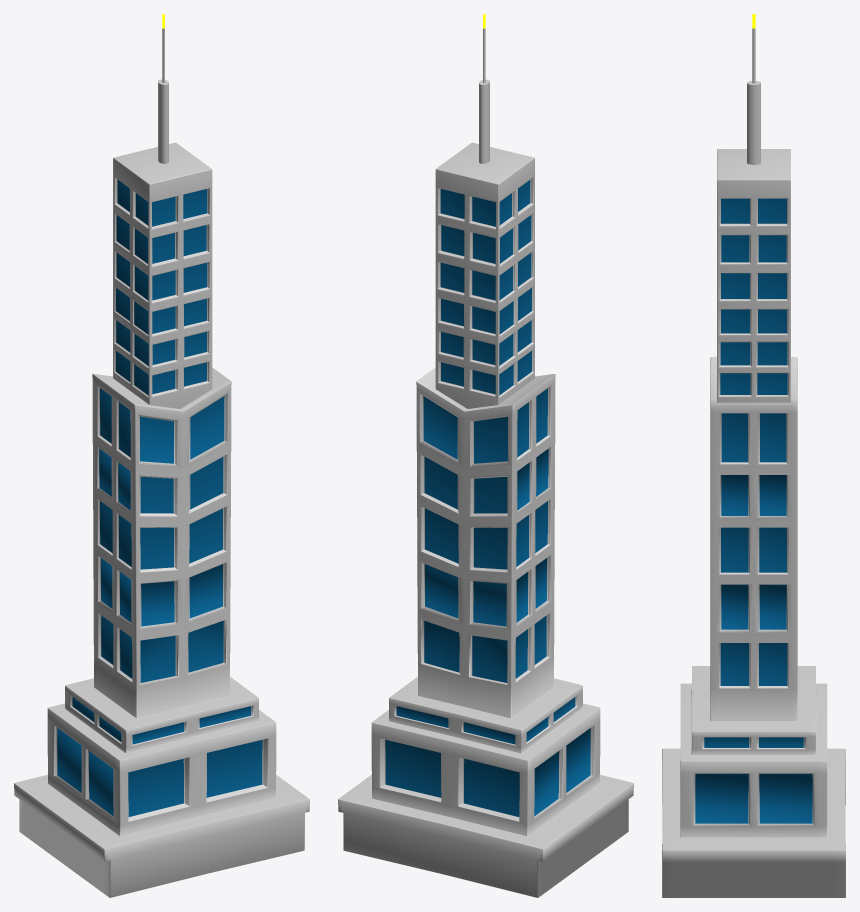
The model's file is Skyscraper1.fbx.
The picture shows the model from 3 angles, left to right: view 1: azimuth 30°, elevation 25°; view 2: azimuth 150°, elevation 25°; view 3: azimuth 270°, elevation 25°; orthographic projection.
Parts seen in each view (by area): view 1: Cube.001; view 2: Cube.001; view 3: Cube.001.
Boxes of the visible parts, bbox=[...] form: Cube.001: bbox=[14, 14, 309, 897]; Cube.001: bbox=[338, 14, 633, 897]; Cube.001: bbox=[662, 14, 845, 897].
Bounding box in the file's own units: 126 × 484 × 96.26.
